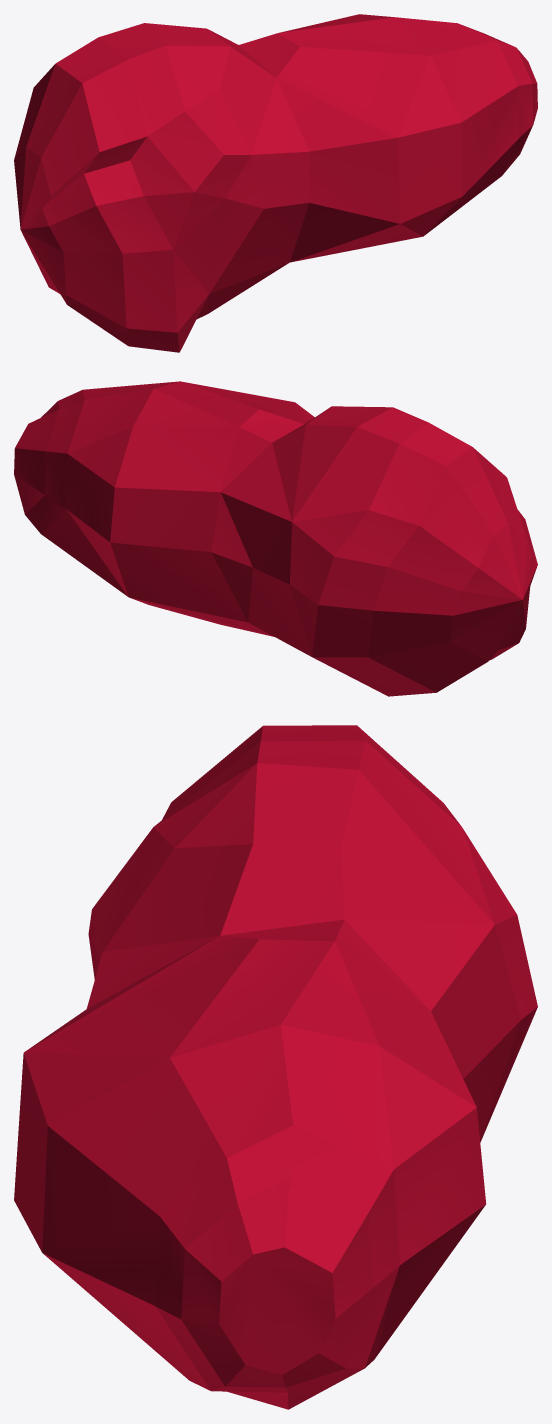
The model's file is right_upper_arm.fbx.
3 renders of one model, top to bottom at view 1: azimuth 30°, elevation 25°; view 2: azimuth 150°, elevation 25°; view 3: azimuth 270°, elevation 25°, orthographic. The views are drawn at different scales.
Visible parts, largest first — view 1: right_upper_arm; view 2: right_upper_arm; view 3: right_upper_arm.
Boxes of the visible parts, <box> form: right_upper_arm: <box>14,14,537,352</box>; right_upper_arm: <box>14,381,537,696</box>; right_upper_arm: <box>14,725,537,1409</box>.
Bounding box in the file's own units: 0.4047 × 0.2171 × 0.209.
